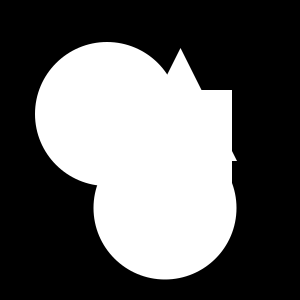circle: (102, 90, 232, 220)
rectangle: (35, 42, 179, 186), (94, 136, 236, 280)
triangle: (124, 48, 237, 161)
